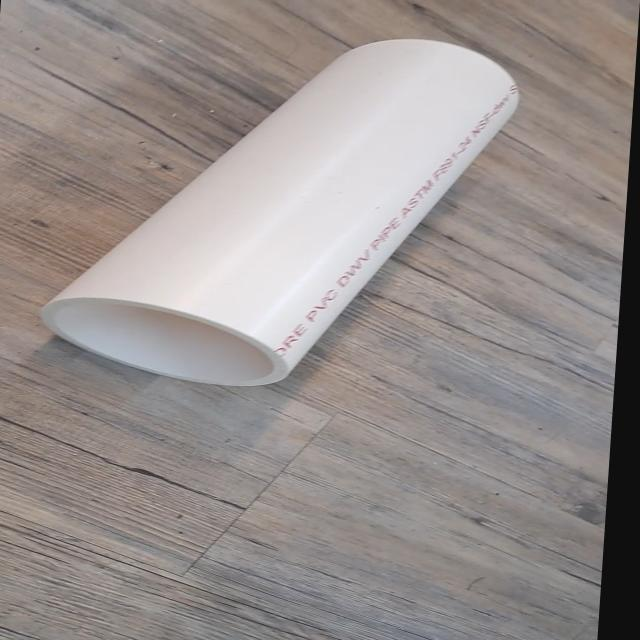CORAL: (24, 32, 532, 390)
